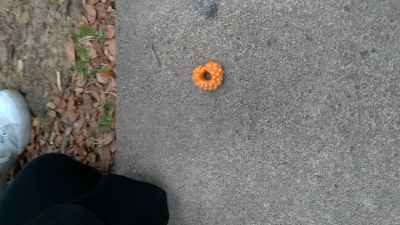eggs: (191, 60, 224, 91)
